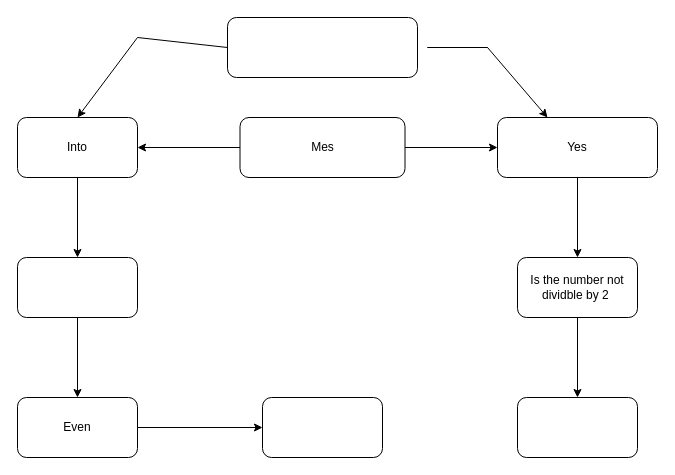
The diagram is 675 pixels wide and 475 high, and some of its shapes have lost their labels. The shapes that lost their labels are listed below. From the top down, each one's box as (x1, y1, x2, y2) in pixels, then its label:
(226, 16, 418, 78): Enter Number
(16, 256, 138, 318): Is the number dividible of even?
(262, 396, 382, 458): Outt..
